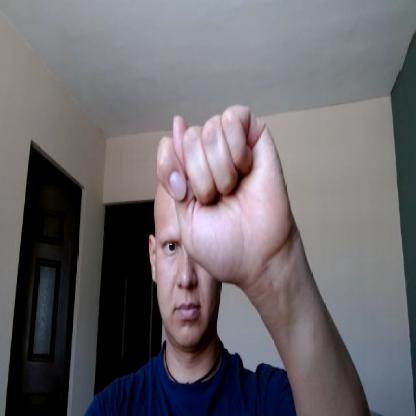T: (157, 104, 289, 282)
